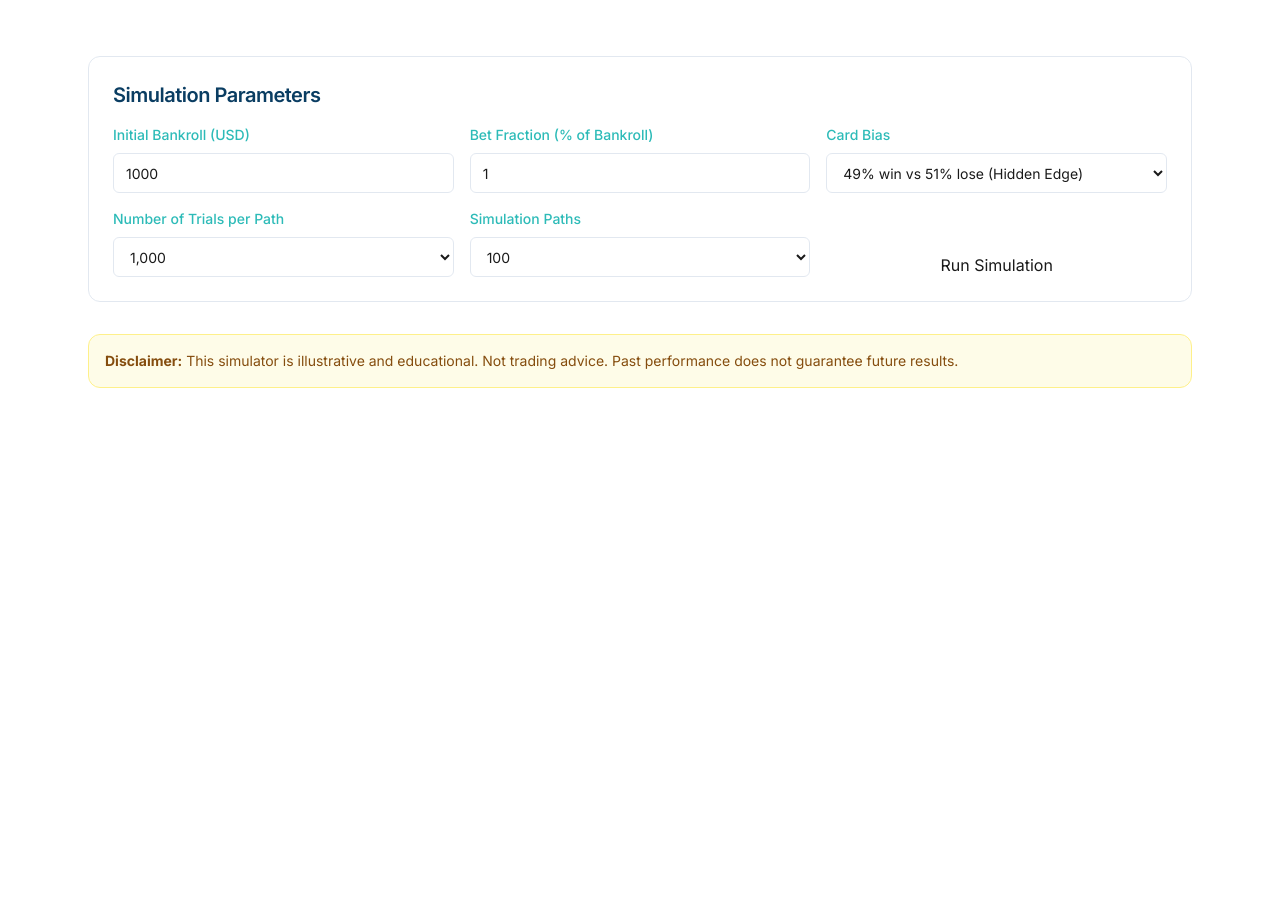
it: CorruptCasinoSimulator › runs simulation when button is clicked
What coordinates should you click on to do the following:
click the button "Run Simulation"
I would click on:
 (997, 265)
Its box is [826,253,1167,277].
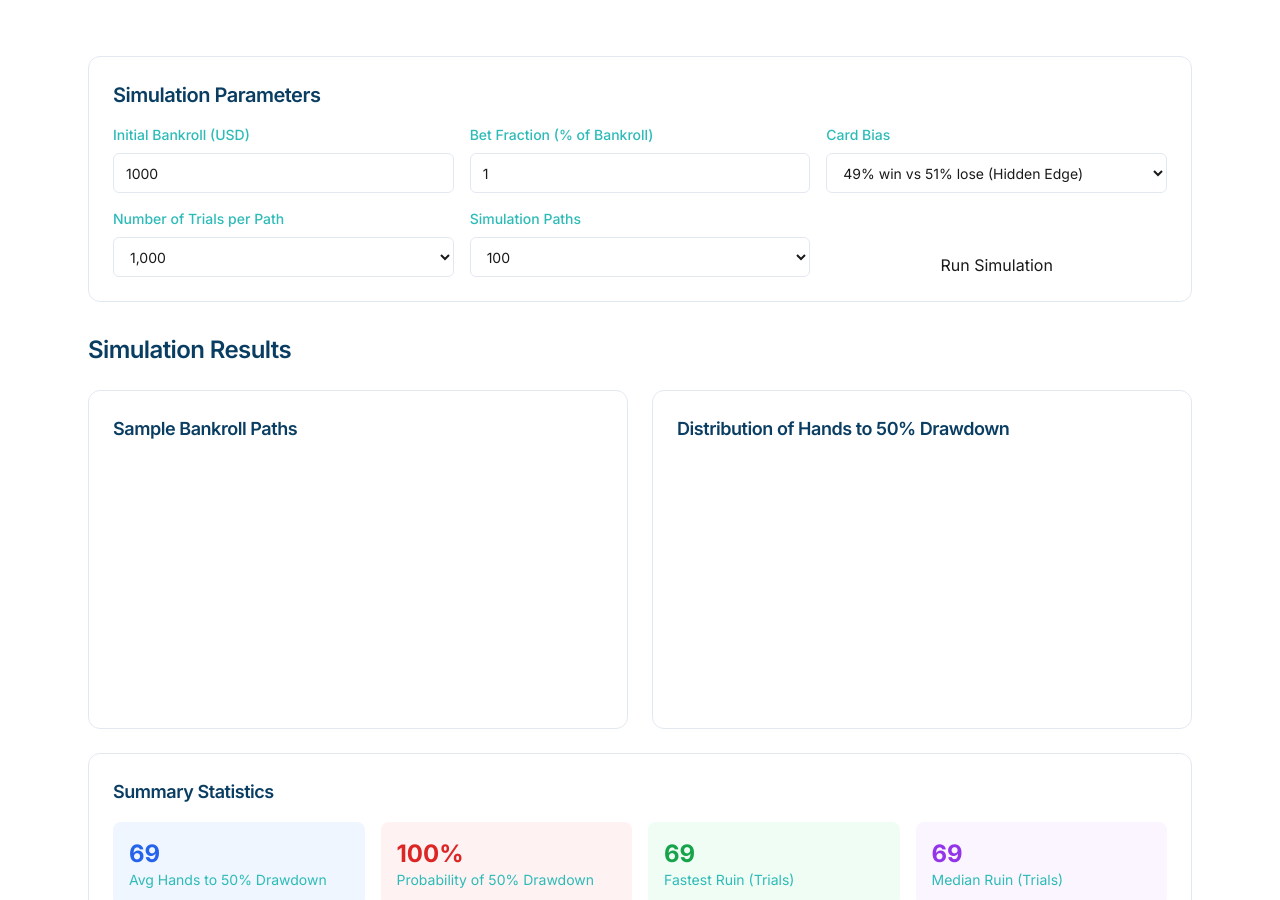
Check: the heading "Simulation Results" is shown, box [88,335,291,364]
